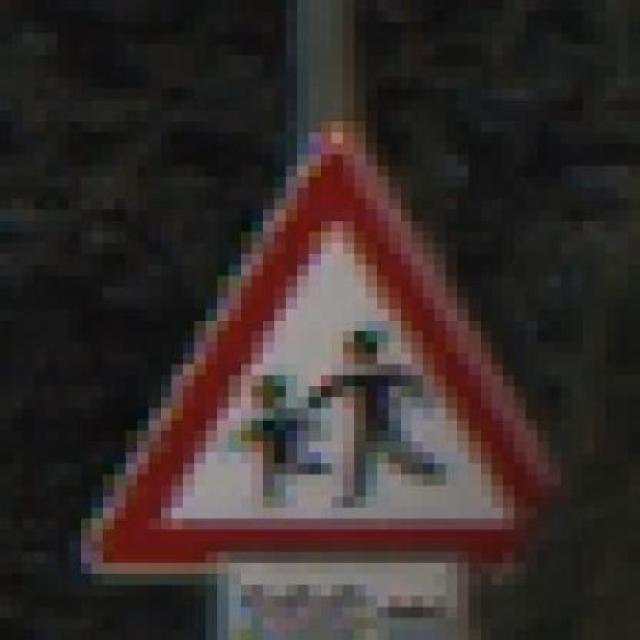Beware of children: (57, 121, 606, 584)
